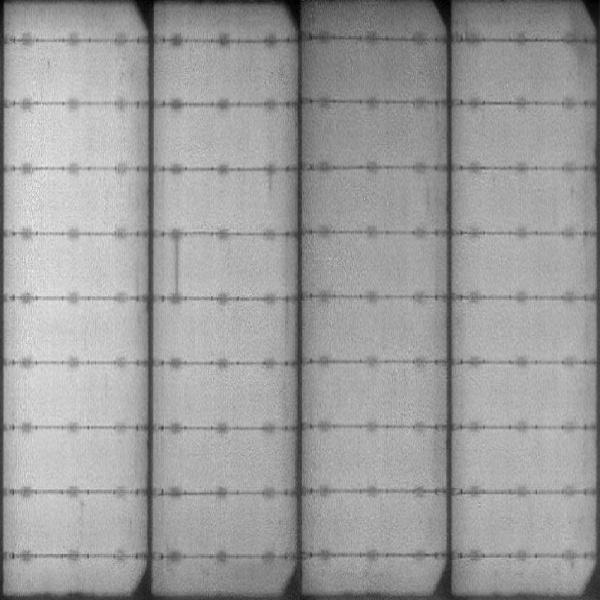scratch: (170, 239, 187, 294)
